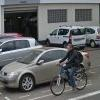bicycles: (50, 63, 89, 96)
